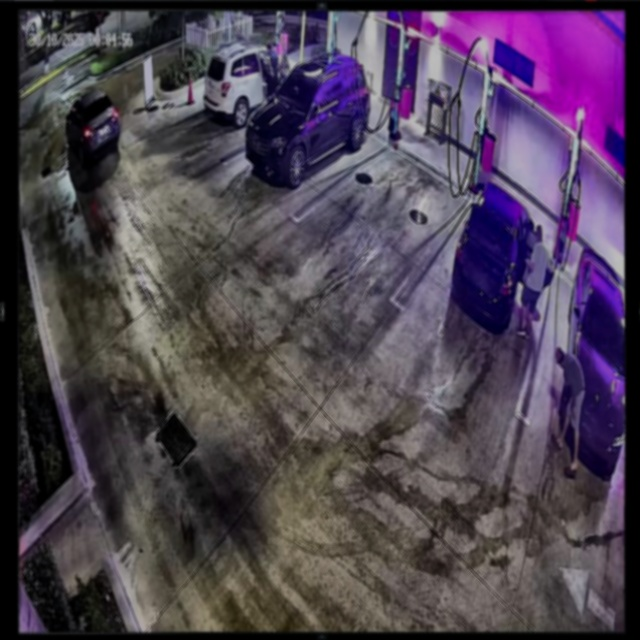Car: (248, 53, 370, 185), (450, 184, 552, 330)
